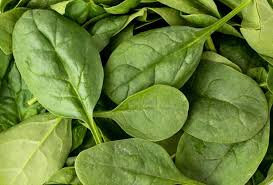spinach: (13, 21, 260, 177)
